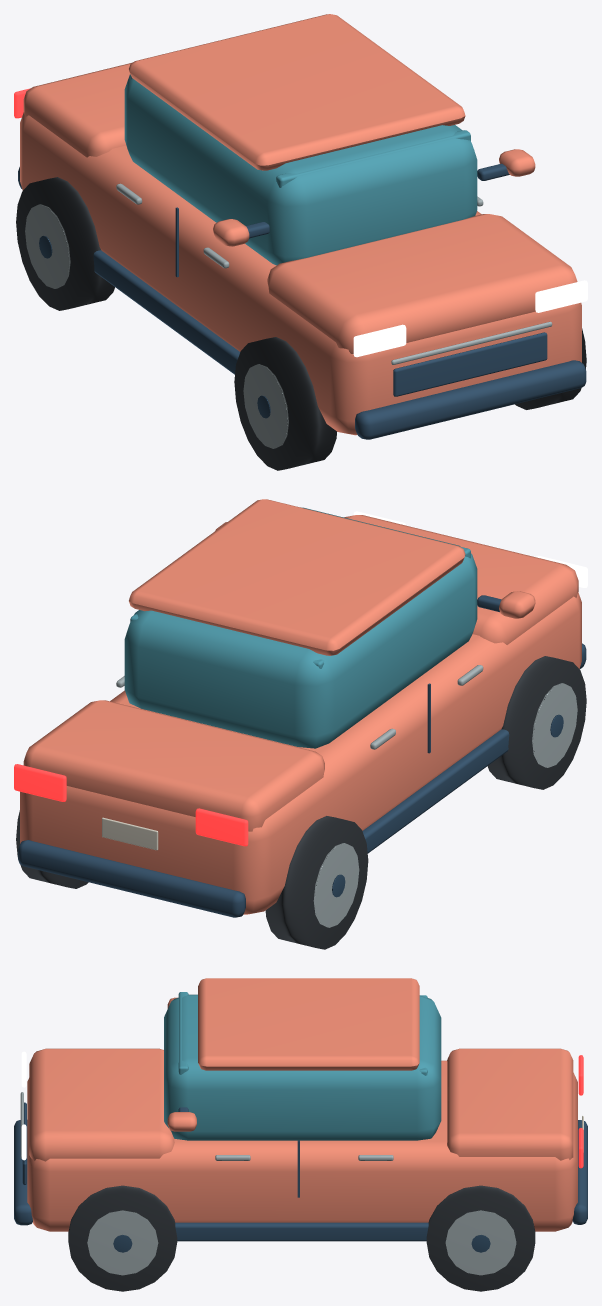
File: HL_Car_CoralRunner.fbx
3 renders of one model, top to bottom at view 1: azimuth 30°, elevation 25°; view 2: azimuth 150°, elevation 25°; view 3: azimuth 270°, elevation 25°, orthographic. The views are drawn at different scales.
Visible parts, largest first — view 1: Body | enamel shell, Cabin | glass belt, Cabin | colored roof, Body | front nose, Bumper | front, Wheel | tyre, Body | rear deck, Wheel | tyre.001, Grille | intake, Side | lower skirt, Wheel | alloy disc.001, Wheel | alloy disc (+7 smaller); view 2: Body | enamel shell, Cabin | glass belt, Cabin | colored roof, Body | rear deck, Body | front nose, Wheel | tyre.001, Bumper | rear, Wheel | tyre, Side | lower skirt, Wheel | alloy disc.001, Wheel | alloy disc, Light | rear (+4 smaller); view 3: Body | enamel shell, Cabin | glass belt, Cabin | colored roof, Body | front nose, Body | rear deck, Wheel | tyre.002, Wheel | tyre.003, Side | lower skirt.001, Wheel | alloy disc.002, Wheel | alloy disc.003, Bumper | front, Bumper | rear (+1 smaller).
Boxes of the visible parts, box(x1,y1,x2,y2) form: Body | enamel shell: box(20, 112, 581, 435); Cabin | glass belt: box(124, 74, 477, 265); Cabin | colored roof: box(129, 14, 465, 170); Body | front nose: box(267, 214, 577, 353); Bumper | front: box(355, 360, 586, 439); Wheel | tyre: box(234, 337, 336, 470); Body | rear deck: box(23, 63, 131, 157); Wheel | tyre.001: box(16, 177, 114, 310); Grille | intake: box(393, 332, 547, 396); Side | lower skirt: box(93, 250, 240, 374); Wheel | alloy disc.001: box(25, 204, 70, 288); Wheel | alloy disc: box(243, 364, 288, 448); Body | enamel shell: box(20, 592, 581, 914); Cabin | glass belt: box(124, 507, 477, 748); Cabin | colored roof: box(129, 499, 465, 655); Body | rear deck: box(23, 700, 324, 831); Body | front nose: box(344, 515, 578, 644); Wheel | tyre.001: box(265, 816, 368, 949); Bumper | rear: box(18, 840, 245, 917); Wheel | tyre: box(487, 656, 586, 789); Side | lower skirt: box(362, 729, 509, 853); Wheel | alloy disc.001: box(313, 843, 359, 927); Wheel | alloy disc: box(532, 683, 577, 767); Light | rear: box(195, 808, 248, 846); Body | enamel shell: box(27, 1060, 577, 1231); Cabin | glass belt: box(164, 994, 441, 1140); Cabin | colored roof: box(198, 978, 419, 1070); Body | front nose: box(29, 1048, 174, 1161); Body | rear deck: box(447, 1048, 573, 1160); Wheel | tyre.002: box(68, 1185, 177, 1291); Wheel | tyre.003: box(426, 1185, 535, 1291); Side | lower skirt.001: box(175, 1222, 428, 1241); Wheel | alloy disc.002: box(87, 1210, 158, 1275); Wheel | alloy disc.003: box(445, 1210, 516, 1275); Bumper | front: box(14, 1120, 32, 1225); Bumper | rear: box(572, 1120, 587, 1224).
Size of the model in its own units: 233 by 190 by 454.
